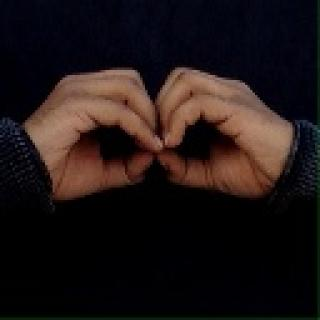B: (23, 56, 285, 212)
